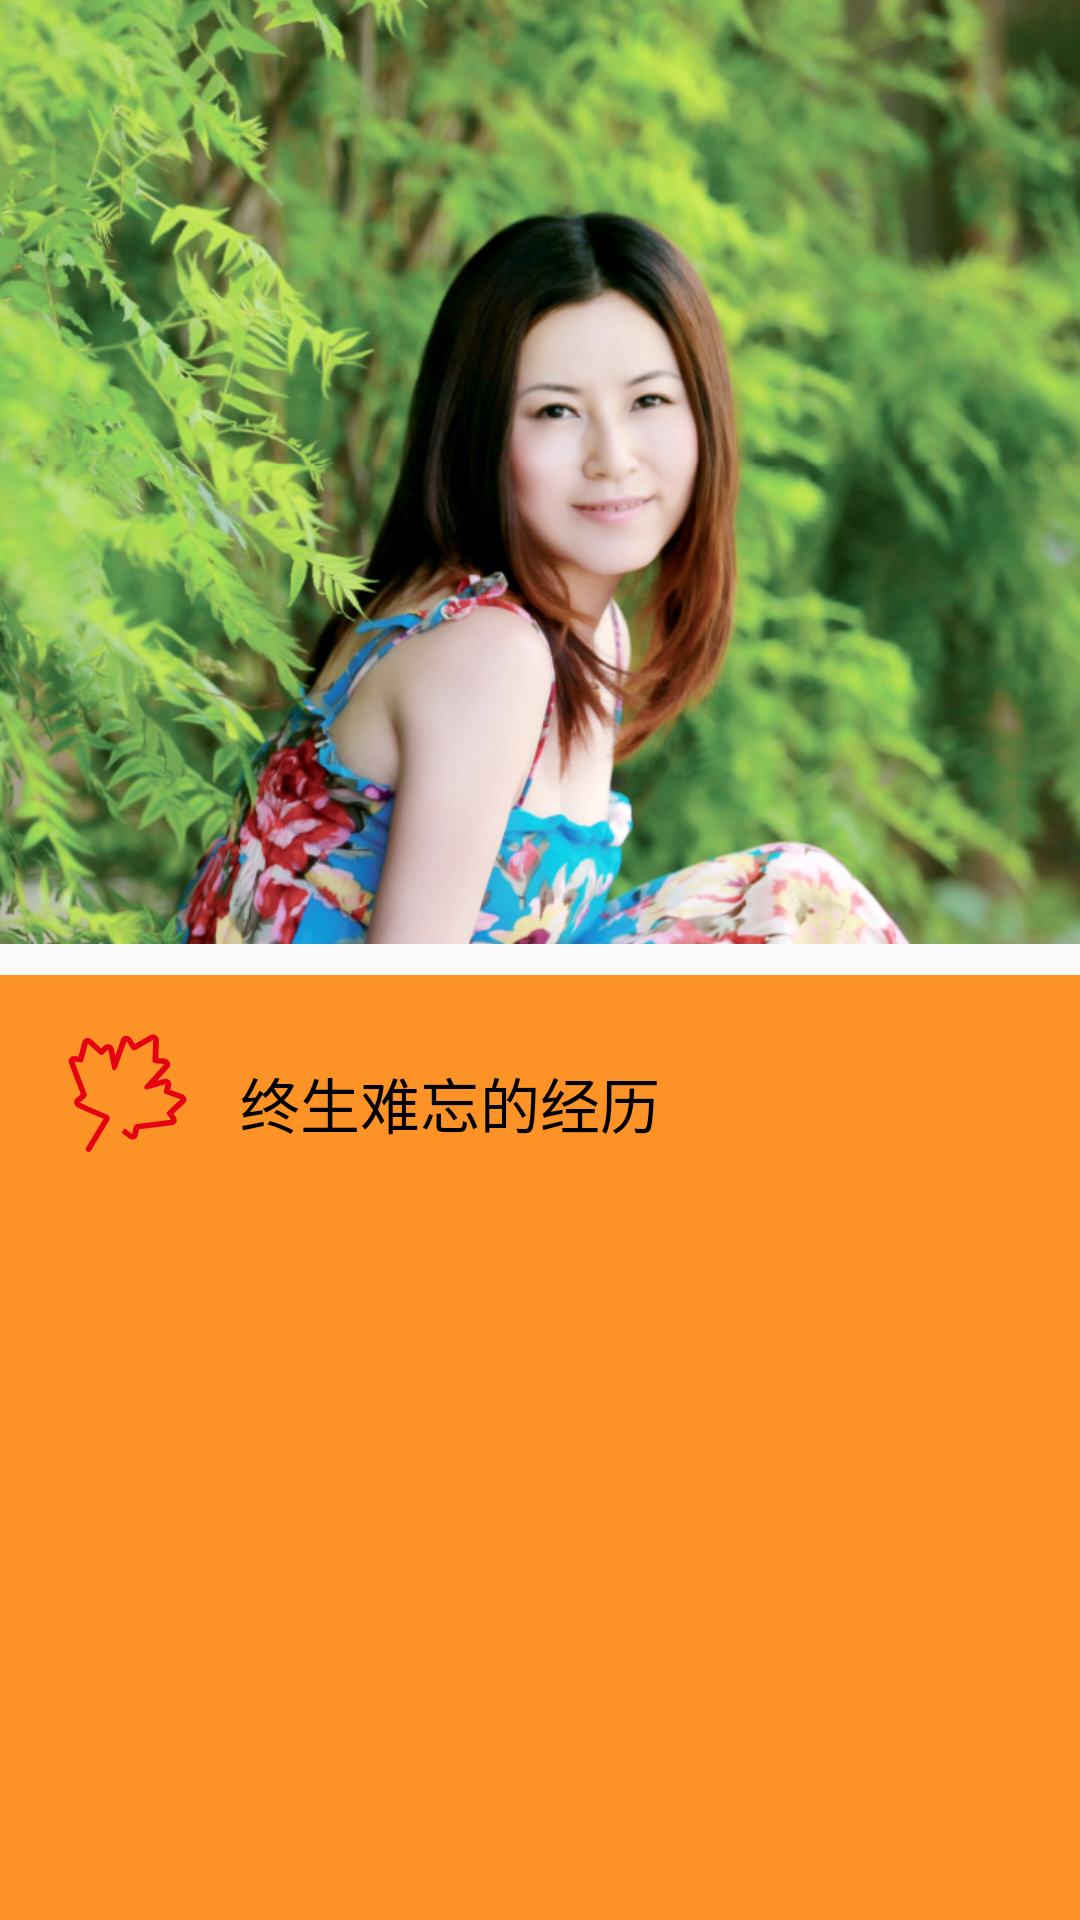

Where to tap for icons on this 1080x1920 app screen, as [x,y]:
leaf: [127,1093]
